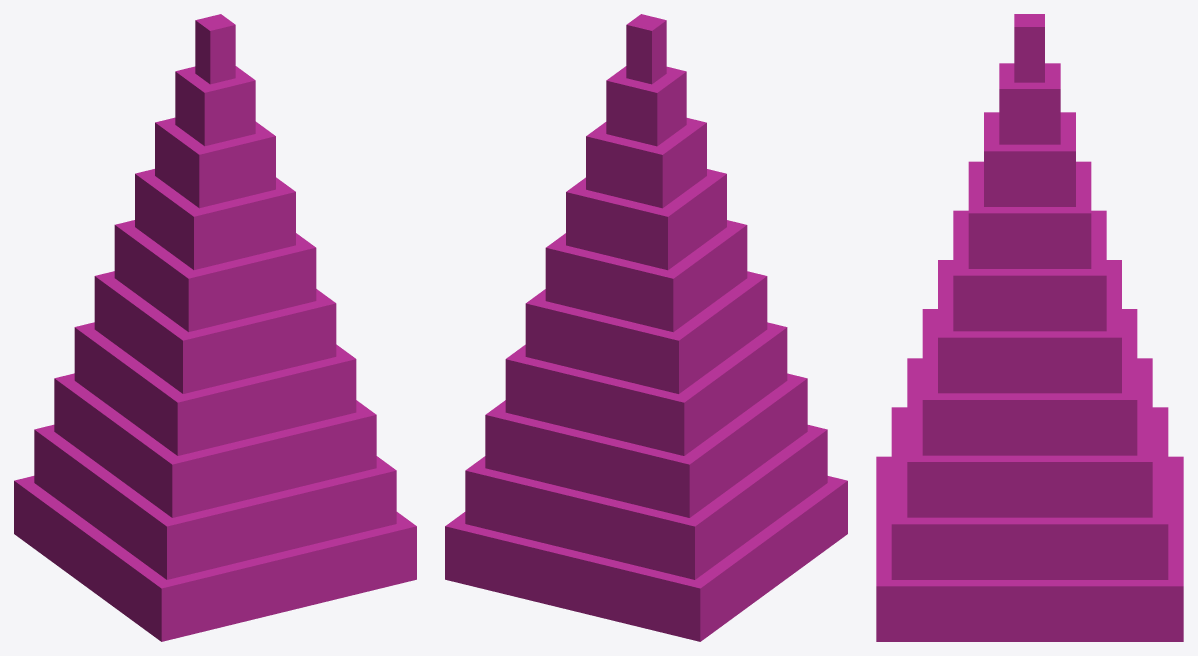
Rendered from torre.glb.
The picture shows the model from 3 angles, left to right: view 1: azimuth 30°, elevation 25°; view 2: azimuth 150°, elevation 25°; view 3: azimuth 270°, elevation 25°; orthographic projection. The views are drawn at different scales.
Visible parts, largest first — view 1: Mesh_Mesh_head_geo.001_lambert2SG.001; view 2: Mesh_Mesh_head_geo.001_lambert2SG.001; view 3: Mesh_Mesh_head_geo.001_lambert2SG.001.
Boxes of the visible parts, x1,y1,x2,y2 form: Mesh_Mesh_head_geo.001_lambert2SG.001: (14, 14, 416, 641); Mesh_Mesh_head_geo.001_lambert2SG.001: (445, 14, 847, 641); Mesh_Mesh_head_geo.001_lambert2SG.001: (876, 14, 1183, 641).
Size of the model in its own units: 10 by 20 by 10.
